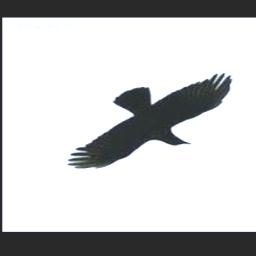Crow: (68, 73, 234, 169)
